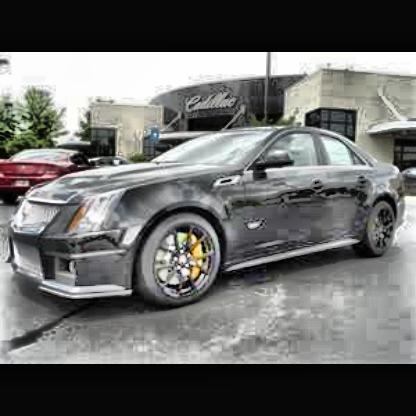Cadillac CTS-V Sedan 2012: (5, 123, 408, 318)
